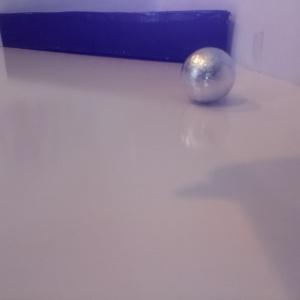zone: (1, 10, 229, 66)
